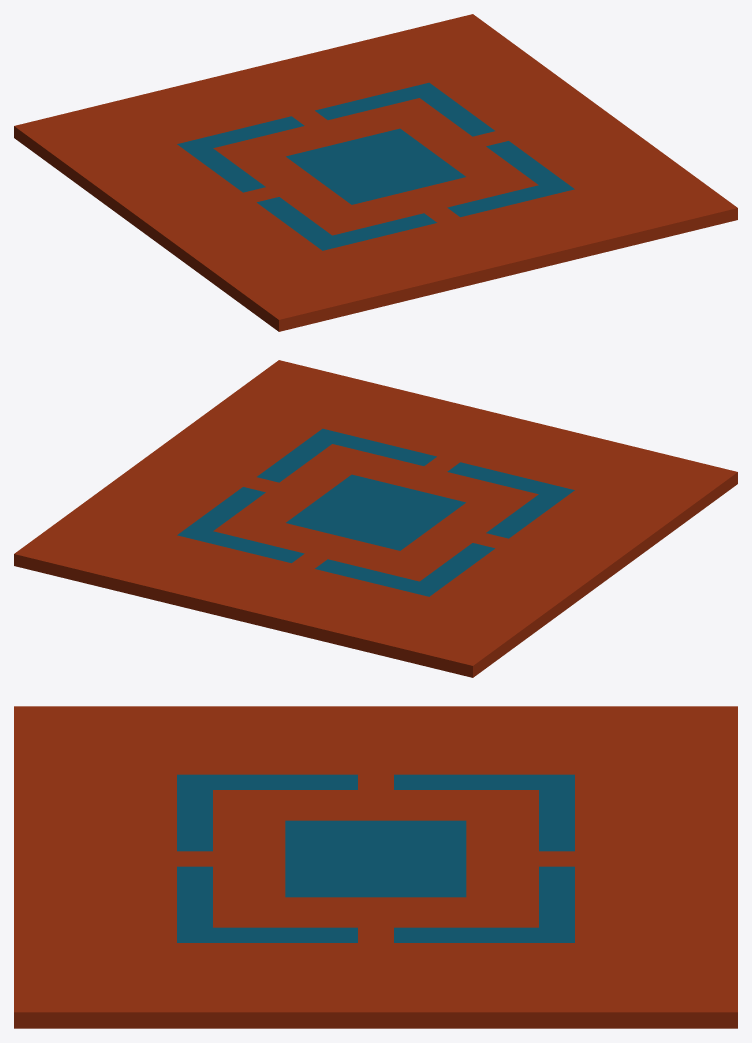
Rendered from TileS_1-4.fbx.
3 views of the same model, one above another, from view 1: azimuth 30°, elevation 25°; view 2: azimuth 150°, elevation 25°; view 3: azimuth 270°, elevation 25° (orthographic). The views are drawn at different scales.
Visible parts, largest first — view 1: TileS_1-4; view 2: TileS_1-4; view 3: TileS_1-4.
Boxes of the visible parts, x1,y1,x2,y2 form: TileS_1-4: (14, 14, 737, 331); TileS_1-4: (14, 360, 737, 677); TileS_1-4: (14, 706, 737, 1028).
Size of the model in its own units: 2 by 2 by 0.051.
